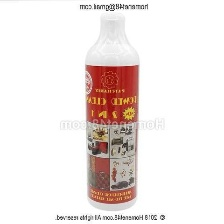cleaning_solution: (83, 10, 143, 212)
